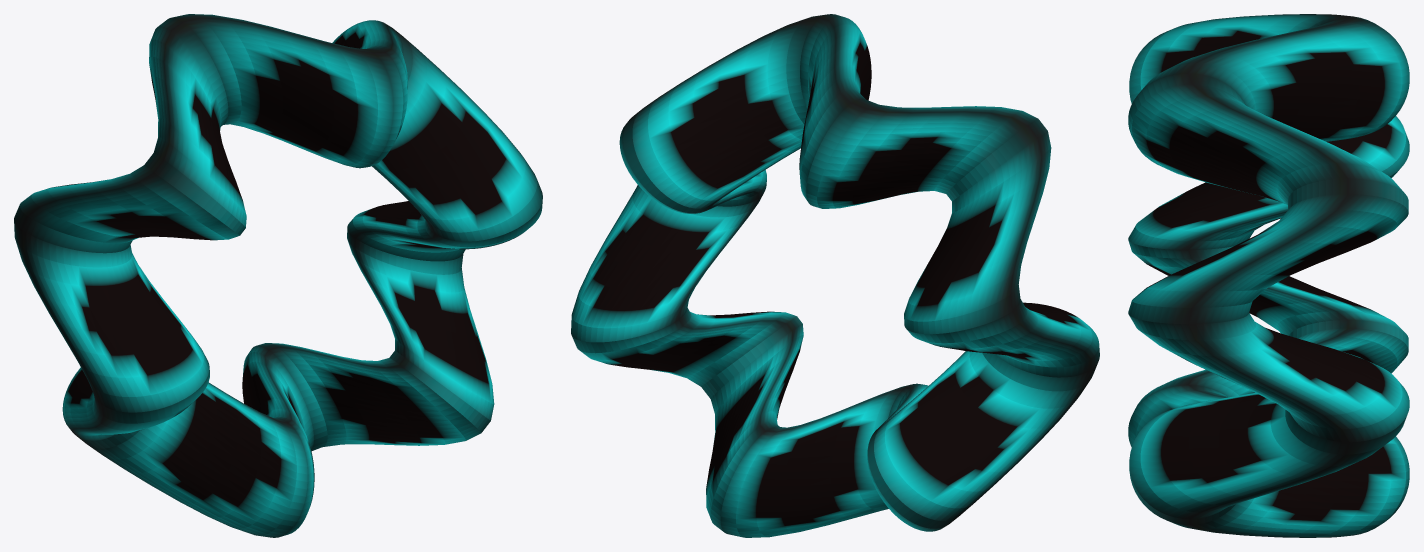
The model's file is step_19.glb.
The picture shows the model from 3 angles, left to right: view 1: azimuth 30°, elevation 25°; view 2: azimuth 150°, elevation 25°; view 3: azimuth 270°, elevation 25°; orthographic projection.
Parts seen in each view (by area): view 1: world; view 2: world; view 3: world.
Part boxes in pixels (<box>): world: <box>14,14,542,537</box>; world: <box>571,14,1099,537</box>; world: <box>1128,14,1409,537</box>.
Bounding box in the file's own units: 26 × 26 × 13.97.
